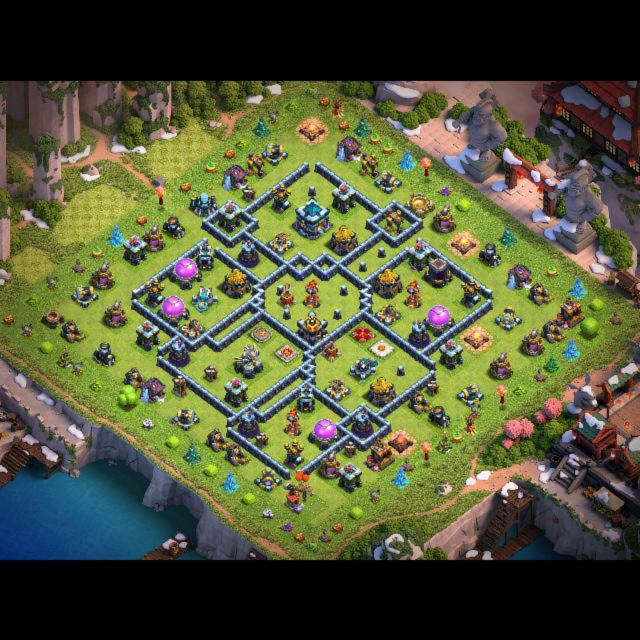AD: (283, 438, 304, 469), (271, 183, 292, 214), (144, 278, 165, 309), (461, 278, 482, 309)
AirSweeper: (277, 282, 297, 308), (321, 339, 341, 361)
BombTower: (298, 384, 315, 412), (196, 241, 213, 269)
Canon: (494, 306, 522, 331), (456, 382, 484, 406), (374, 169, 402, 193), (255, 467, 282, 491), (70, 284, 98, 307), (171, 407, 199, 429), (261, 142, 288, 164)
ClanCastle: (297, 309, 328, 345)
Eagle: (234, 342, 263, 379)
Inferno: (283, 408, 301, 436), (303, 279, 320, 307), (405, 279, 422, 307)
KingPad: (275, 344, 299, 362)
Mortar: (92, 341, 116, 367), (162, 215, 186, 239), (479, 242, 502, 267), (427, 405, 451, 428)
QueenPad: (350, 325, 376, 343)
RcPad: (251, 326, 272, 341)
Scattershot: (349, 355, 377, 381), (191, 285, 217, 311)
TH13: (295, 196, 330, 239)
WardenPad: (371, 339, 393, 356)
WizzTower: (409, 319, 430, 347), (352, 409, 373, 437), (238, 410, 259, 438), (238, 239, 259, 267), (169, 338, 189, 366)
Xbow: (323, 377, 351, 401), (267, 230, 294, 254), (374, 303, 401, 325), (178, 317, 205, 339)
